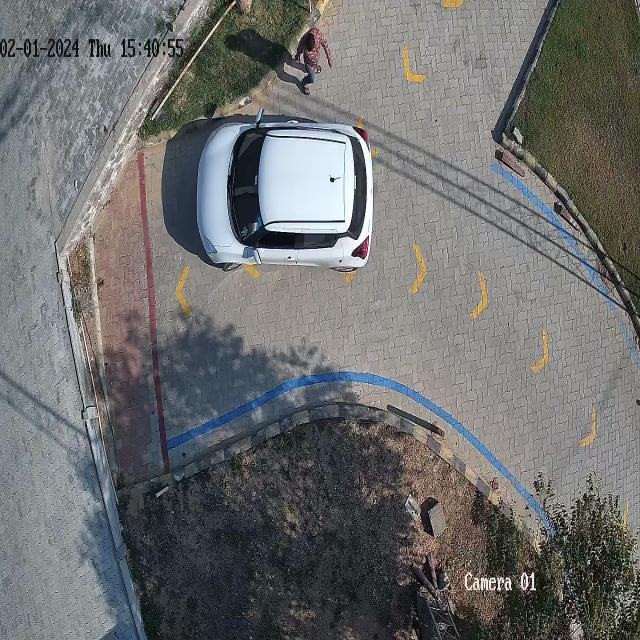car: (198, 109, 372, 270)
